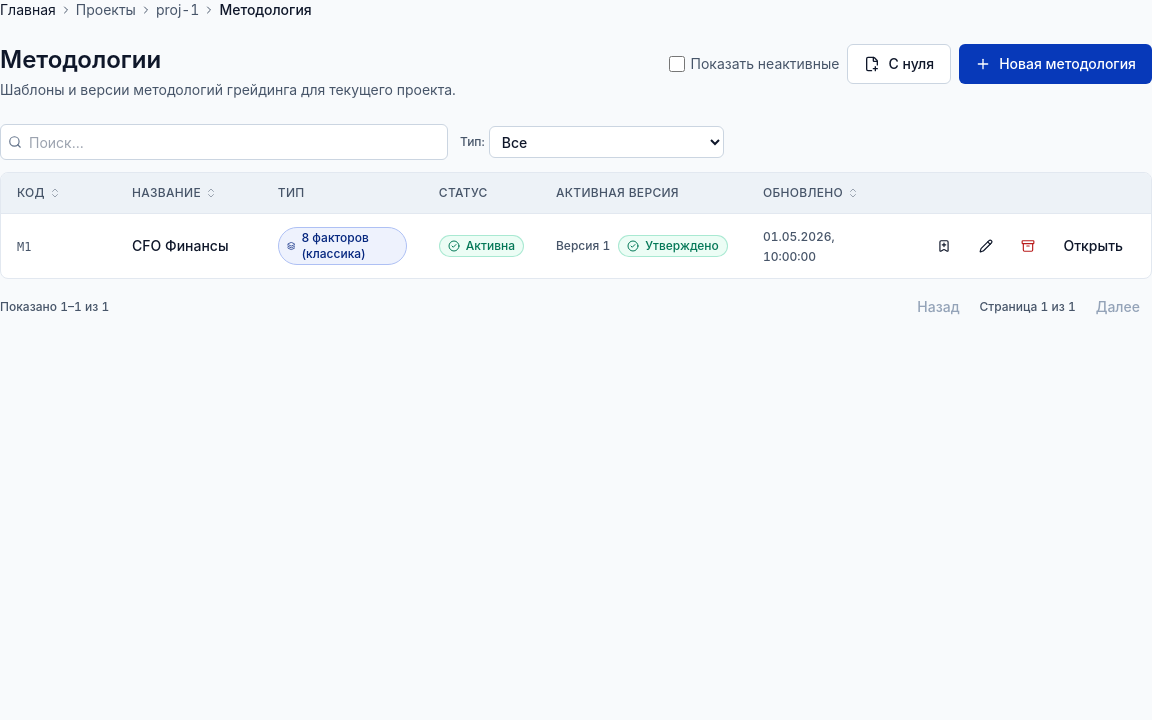
Test: MethodologyListPage › clicking "+ New methodology" opens the template picker
This screenshot has width=1152, height=720.
Click the button with test id "methodology-list-new".
click(1056, 64)  # box top-left (959, 44), bottom-right (1151, 84)
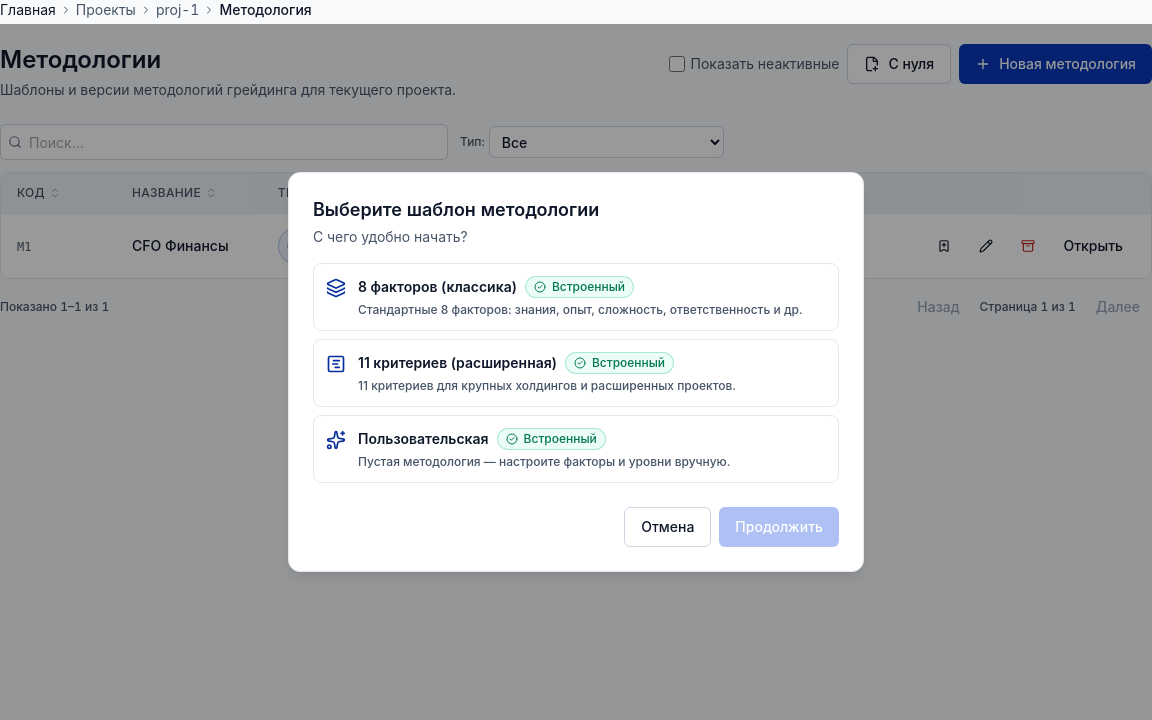
Now the radio button with test id "template-option-CLASSIC_8_FACTOR" is shown, box top-left (326, 276), bottom-right (826, 318)
Now the radio button with test id "template-option-EXTENDED_11_CRITERIA" is shown, box top-left (326, 352), bottom-right (826, 394)
Now the radio button with test id "template-option-CUSTOM" is shown, box top-left (326, 428), bottom-right (826, 470)
